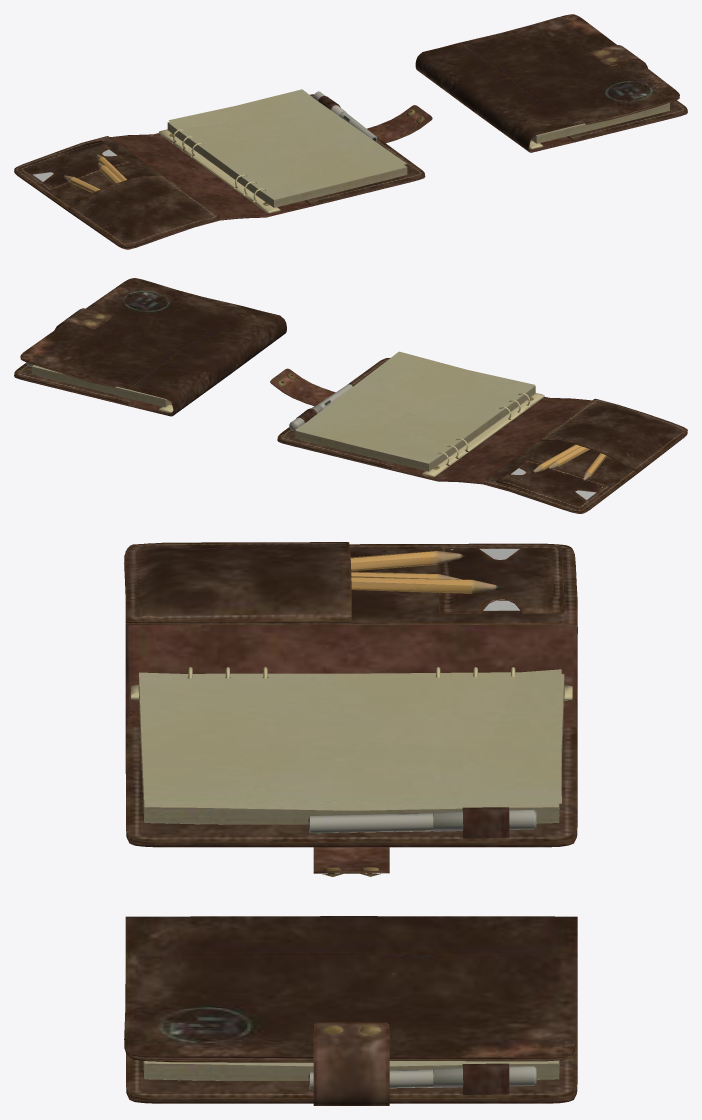
Rendered from binder_notebook.glb.
3 views of the same model, one above another, from view 1: azimuth 30°, elevation 25°; view 2: azimuth 150°, elevation 25°; view 3: azimuth 270°, elevation 25° (orthographic). The views are drawn at different scales.
Parts seen in each view (by area): view 1: binder_notebook; view 2: binder_notebook; view 3: binder_notebook.
Part boxes in pixels (x1,y1,x2,y2): binder_notebook: (14, 14, 687, 249); binder_notebook: (14, 278, 687, 513); binder_notebook: (124, 542, 577, 1105).
Size of the model in its own units: 0.5838 by 0.0252 by 0.1999.
Materials: 1 (1 with a texture image).
